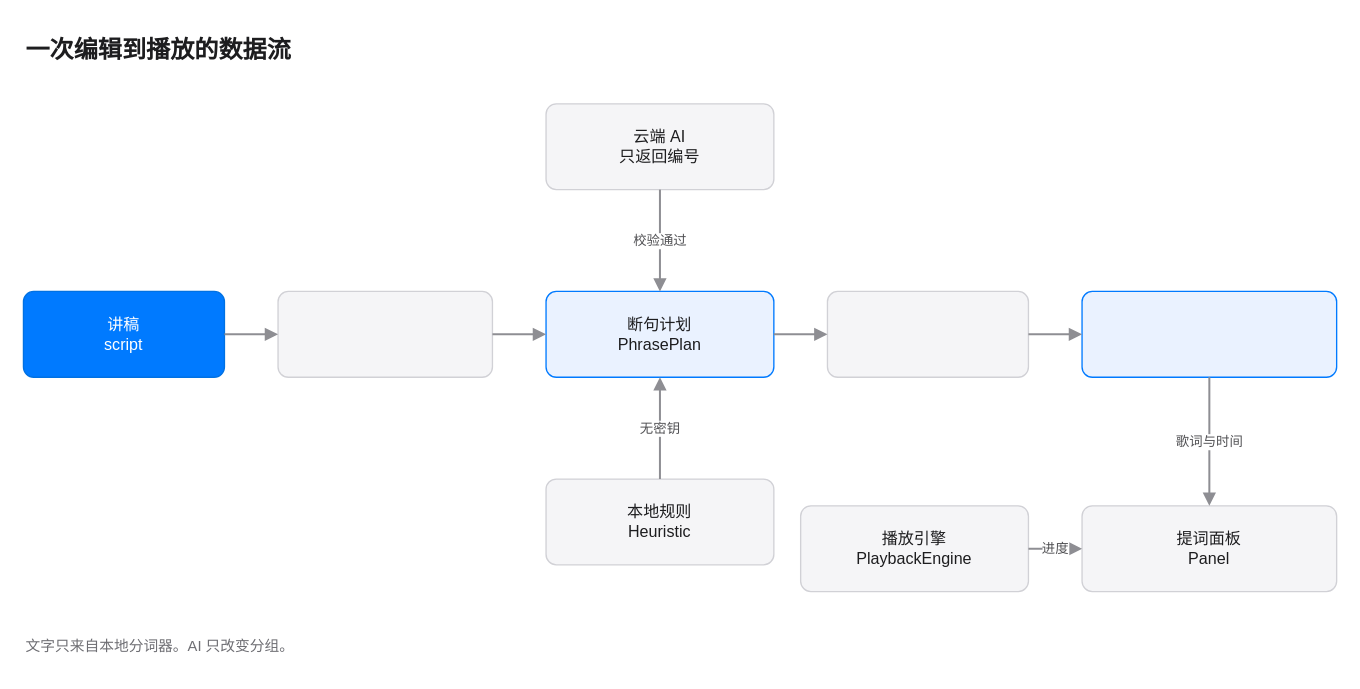
This 1360x689 diagram has some shape labels left out. The centre of each missing label's shape, as x and y in pixels:
"分词器 Tokenizer" goes at [384,333].
"合成器 Composer" goes at [927,333].
"提词文档 PromptDocument" goes at [1209,333].
